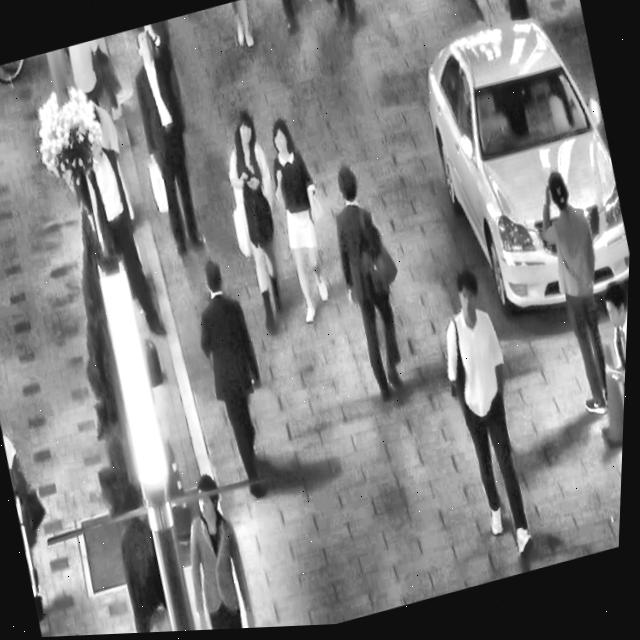light_vehicle: (398, 0, 640, 348)
